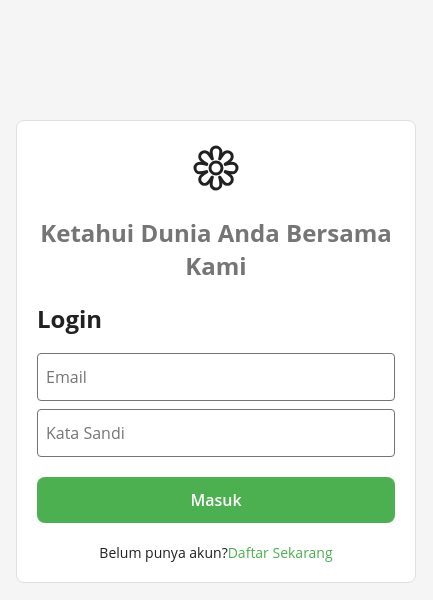
Scenario: Login Page › should show error message with invalid credentials
Step 1. Type "user@example.com" into the field with placeholder "Email" → (216, 377), box [37,353,395,401]
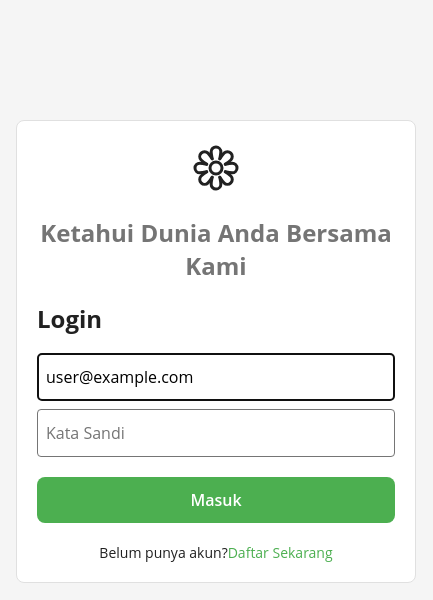
Step 2. Type "wrongpassword" into the password field with placeholder "Kata Sandi" → (216, 433), box [37,409,395,457]
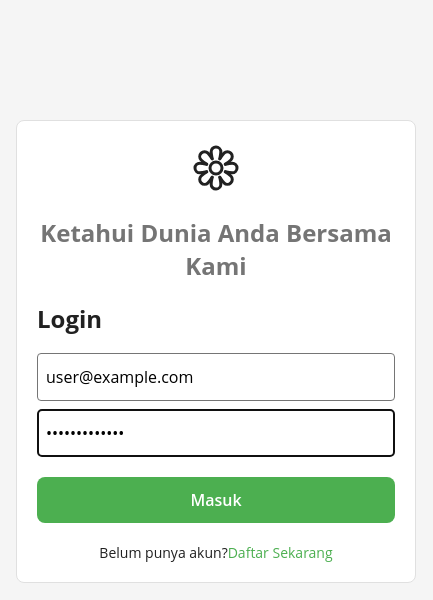
Step 3. Click the button "Masuk" → click(216, 500), box [37,477,395,523]
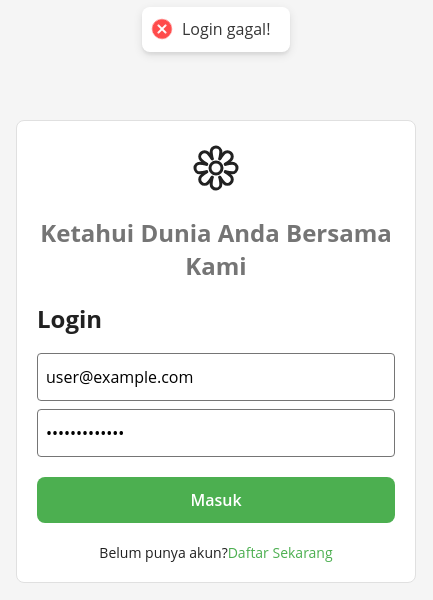
Check: the text "Login gagal!" is shown, box [182,19,270,40]
